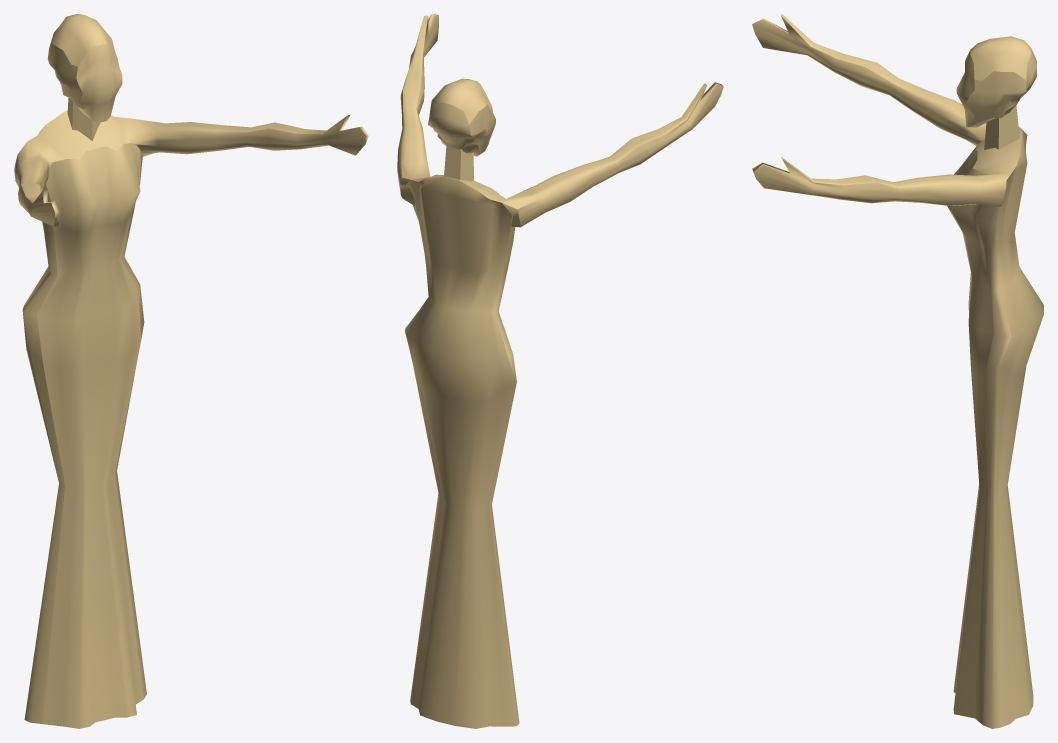
Rendered from statue.fbx.
3 views of the same model, side by side, from view 1: azimuth 30°, elevation 25°; view 2: azimuth 150°, elevation 25°; view 3: azimuth 270°, elevation 25° (orthographic). The views are drawn at different scales.
Visible parts, largest first — view 1: pCube5; view 2: pCube5; view 3: pCube5.
Part boxes in pixels (bbox=[...]): pCube5: bbox=[14, 14, 368, 728]; pCube5: bbox=[397, 14, 723, 728]; pCube5: bbox=[752, 14, 1043, 728].
Size of the model in its own units: 24 by 50.09 by 20.
